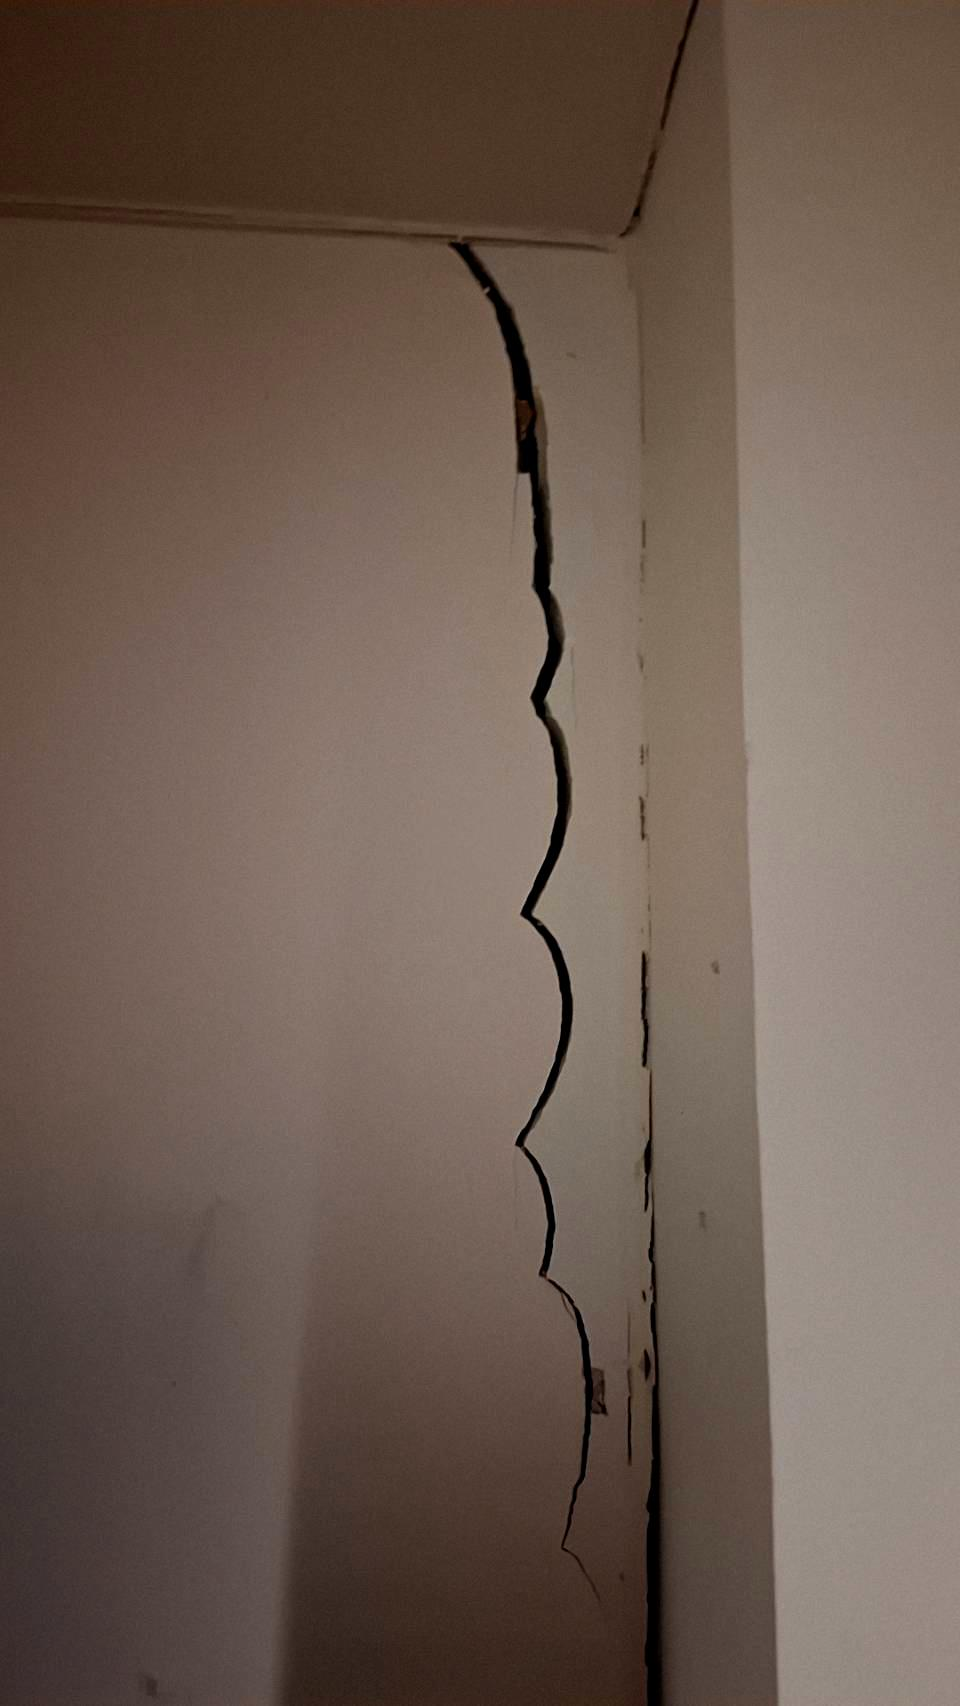High: (410, 223, 704, 1706)
